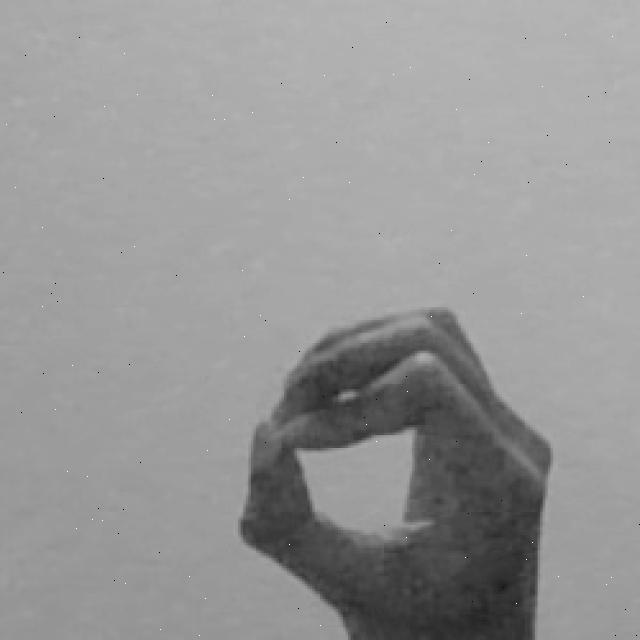O: (235, 299, 566, 640)
